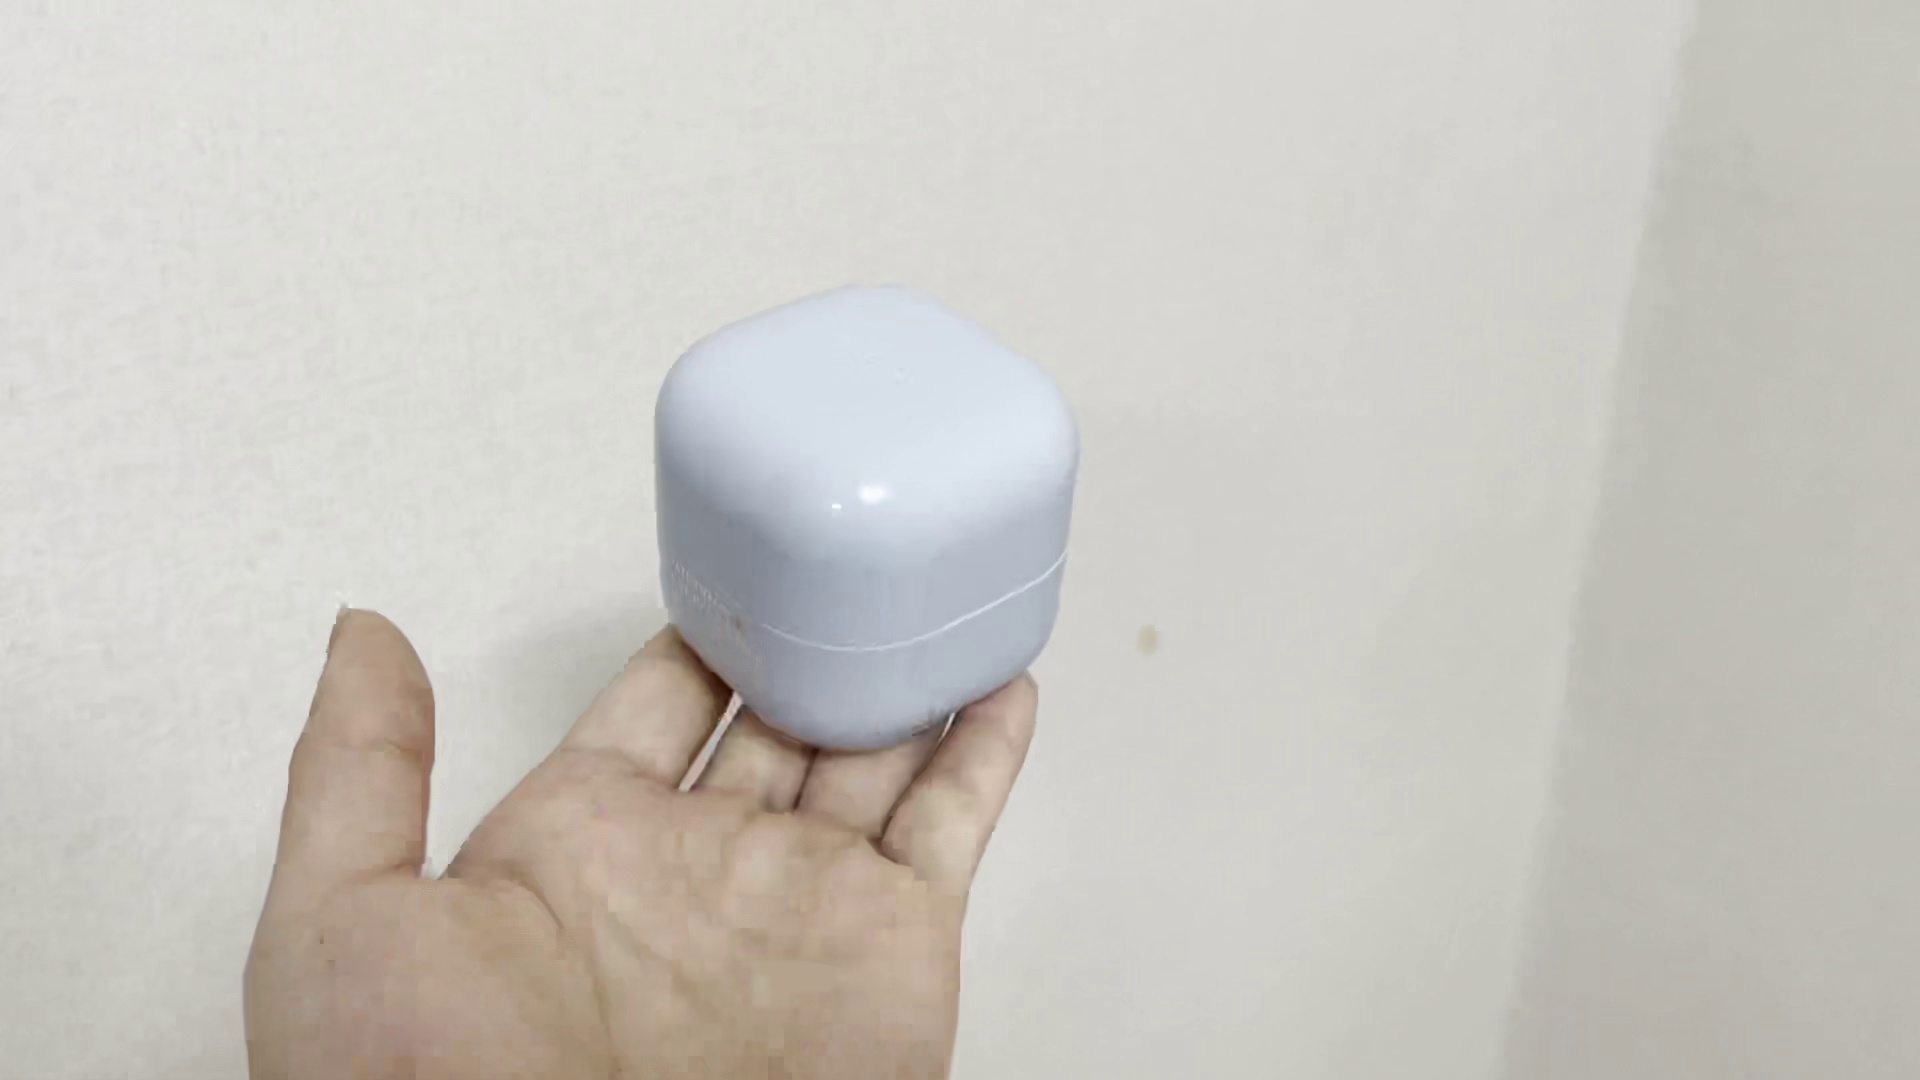cream: (647, 282, 1085, 748)
